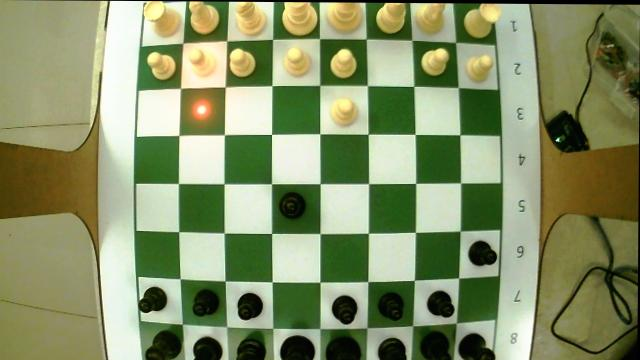piece: (281, 2, 318, 35), (145, 1, 179, 36), (466, 4, 499, 38), (283, 2, 316, 35), (147, 326, 180, 359), (327, 2, 361, 33), (325, 331, 360, 360), (235, 2, 264, 35), (464, 5, 493, 37), (459, 333, 492, 360), (416, 3, 445, 33), (190, 1, 218, 32), (420, 332, 450, 360), (375, 3, 403, 32), (192, 2, 219, 32), (377, 3, 404, 33), (237, 331, 264, 360), (280, 336, 313, 359), (193, 287, 221, 314), (284, 47, 310, 75), (378, 293, 404, 320), (148, 52, 173, 79), (420, 48, 447, 73), (330, 49, 354, 77), (231, 49, 255, 76), (333, 296, 357, 323), (469, 240, 494, 265), (281, 192, 305, 218), (429, 291, 453, 316), (189, 49, 213, 74), (238, 292, 261, 318), (466, 55, 492, 78), (193, 337, 220, 359), (377, 339, 404, 360), (141, 286, 165, 309), (428, 293, 453, 315), (378, 340, 405, 360), (332, 97, 354, 119), (146, 1, 166, 20), (161, 14, 175, 31), (348, 302, 356, 318)
